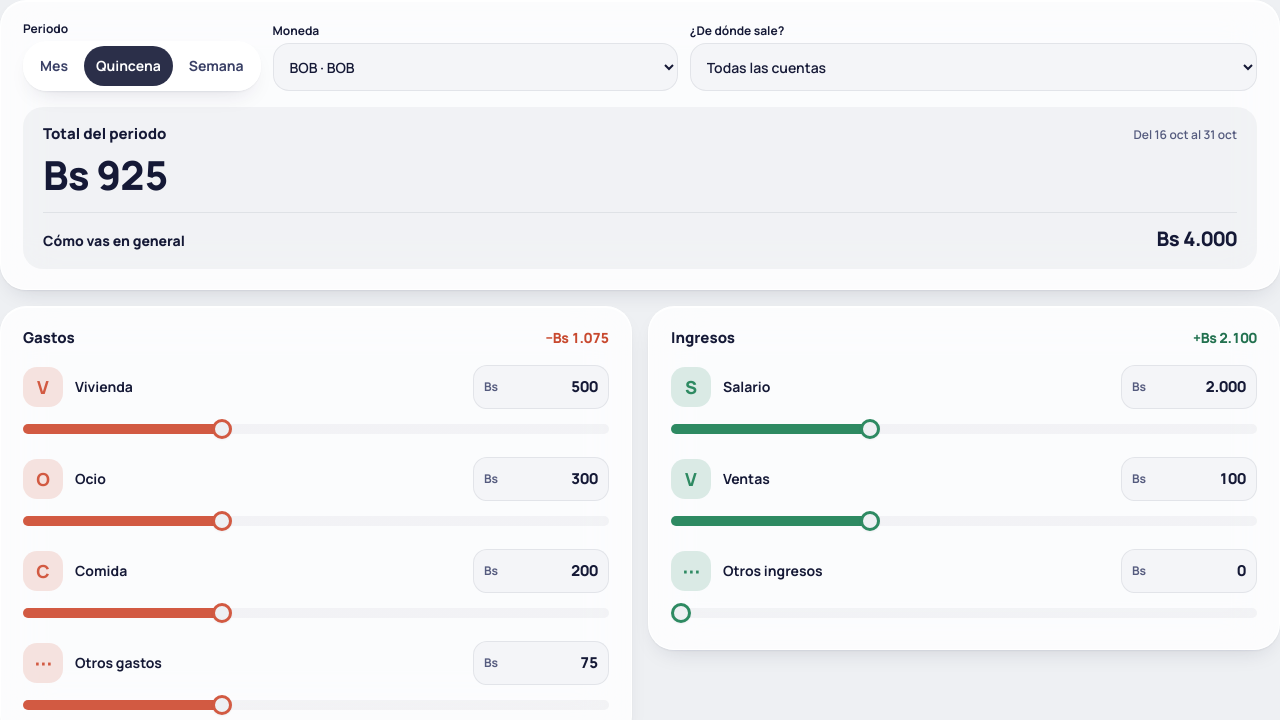
Test: What If? simulator › changing the period reloads the base and the total
The width and height of the screenshot is (1280, 720).
Click the radio button labelled "Semana" at x=216, y=66, box [177,46,256,86]
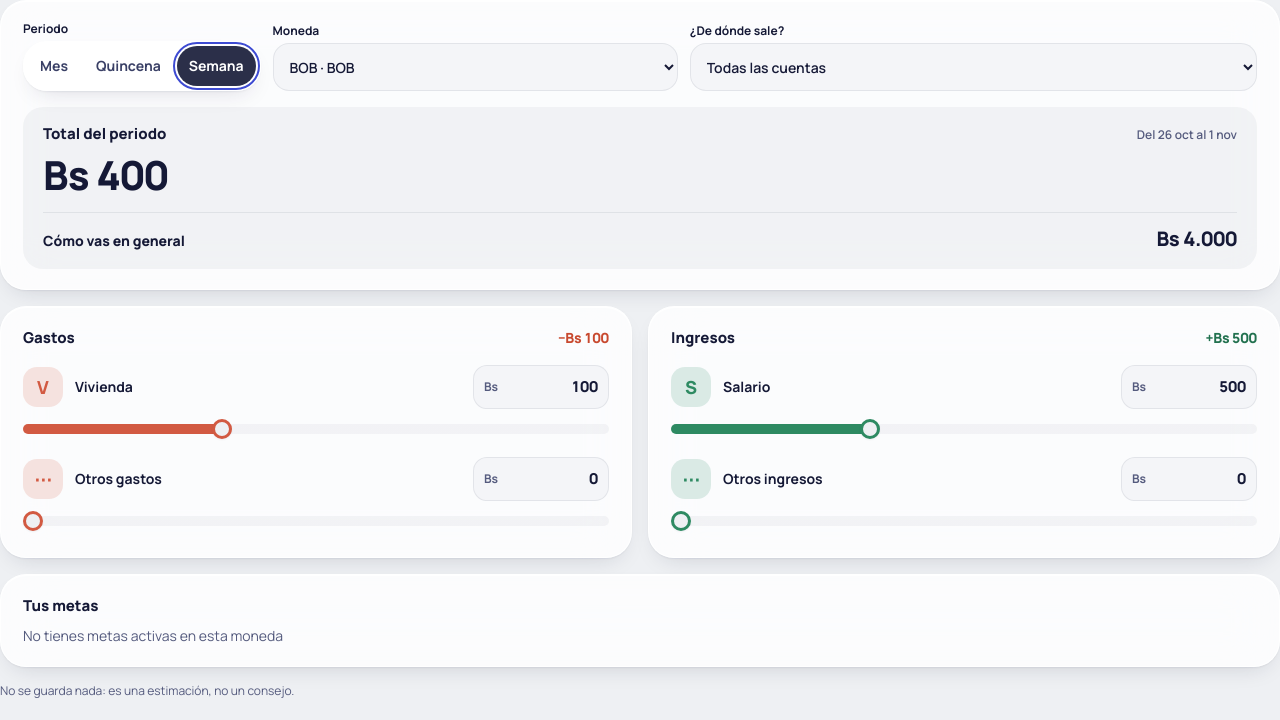
expect the text "Bs 400" is shown: met, box [43,150,168,200]
